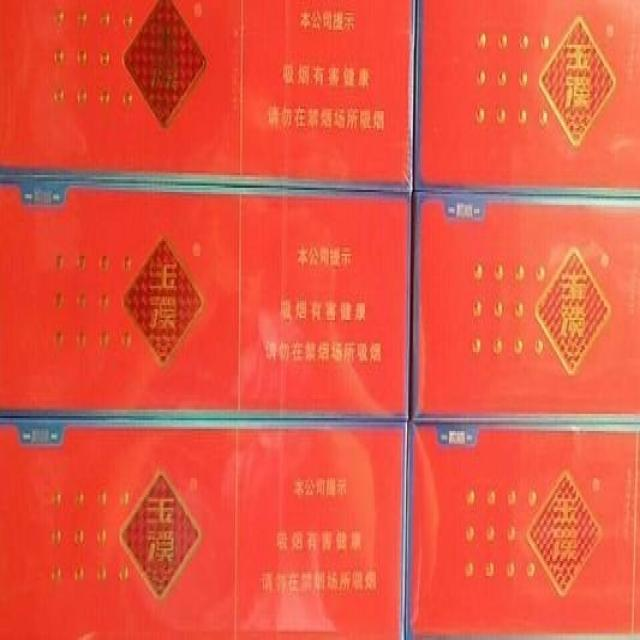box: (0, 180, 413, 422), (0, 421, 408, 638), (0, 3, 416, 194), (408, 190, 639, 422), (404, 421, 639, 637), (413, 0, 638, 200)
